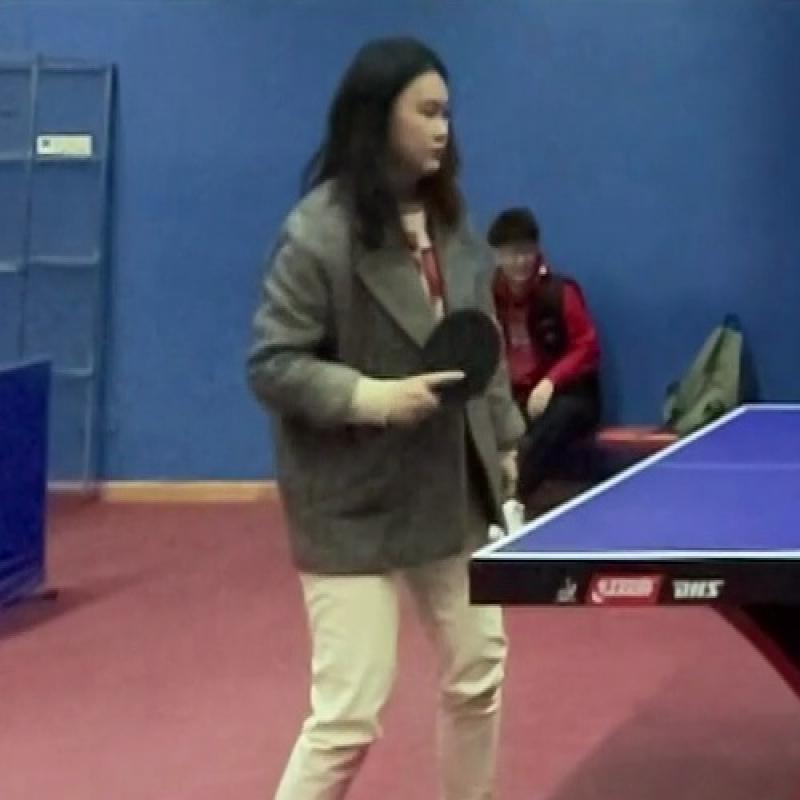bats: (415, 308, 516, 422)
